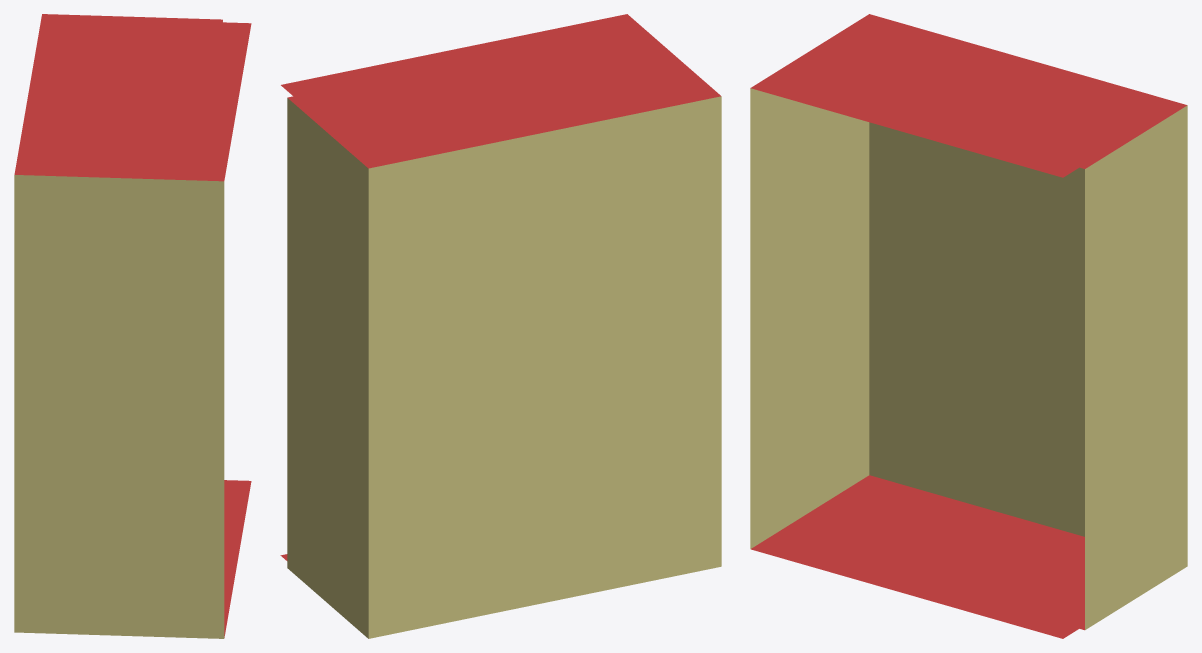
3 renders of one model, left to right at view 1: azimuth 30°, elevation 25°; view 2: azimuth 150°, elevation 25°; view 3: azimuth 270°, elevation 25°, orthographic. The views are drawn at different scales.
Size of the model in its own units: 6.63 by 7.48 by 8.7.
